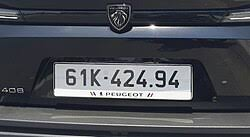Bien-so: (51, 60, 194, 101)
